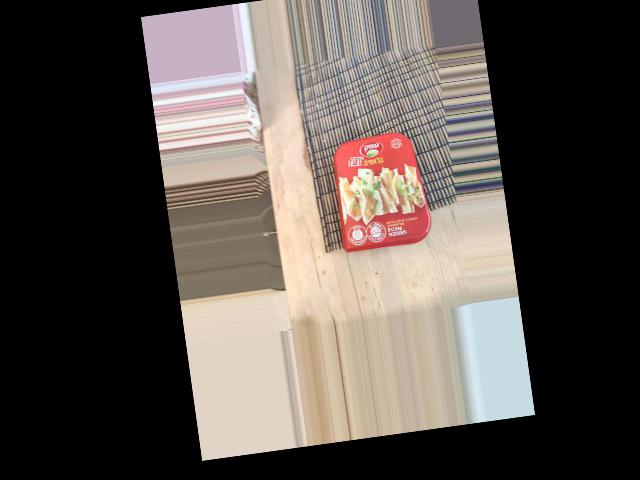cheese: (328, 79, 458, 188)
